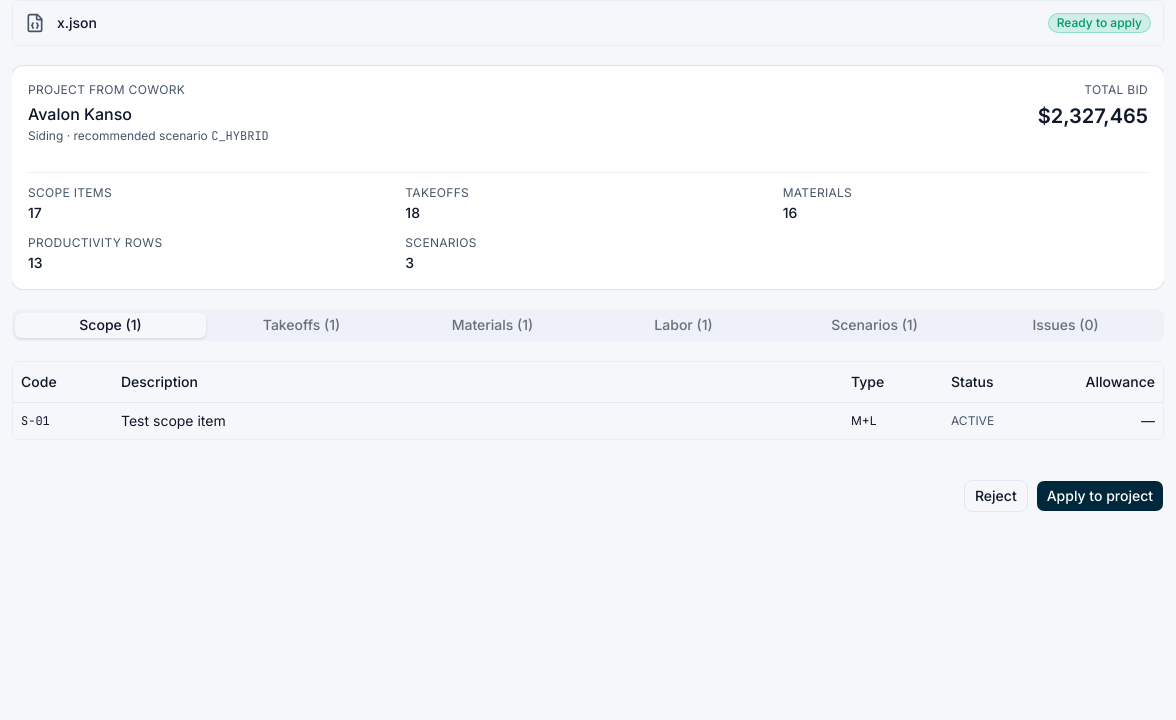
Test: CoworkImportPreviewStage › detail tabs › switches to Takeoffs tab on click
This screenshot has width=1176, height=720.
Click the tab "Takeoffs (1)". click: (302,325)
box: left=206, top=312, right=397, bottom=338
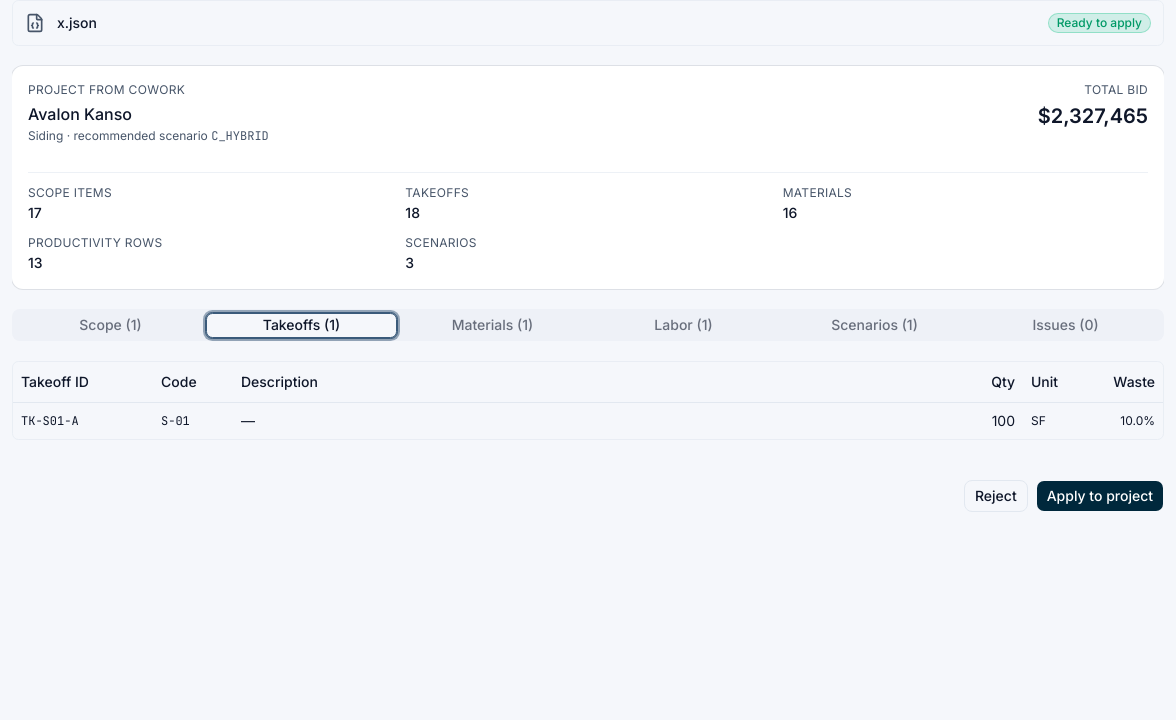
Expected: the text "TK-S01-A" is shown, left=13, top=402, right=153, bottom=438
